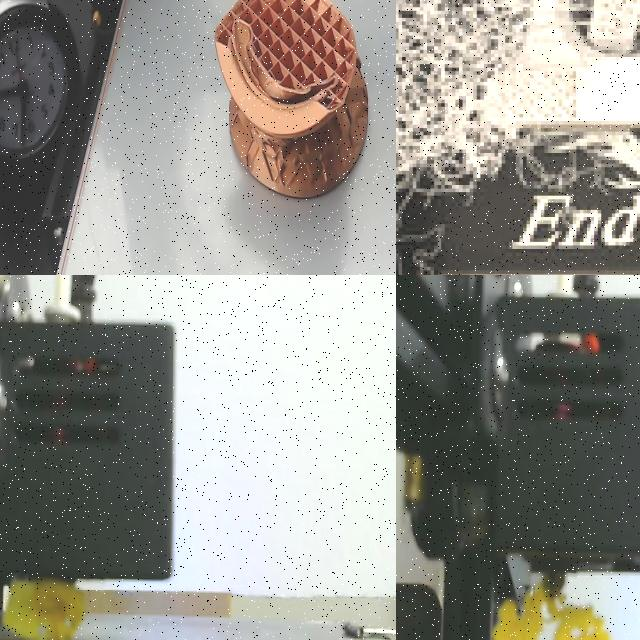spaghetti: (396, 0, 640, 275), (478, 586, 622, 640), (4, 579, 85, 640)
